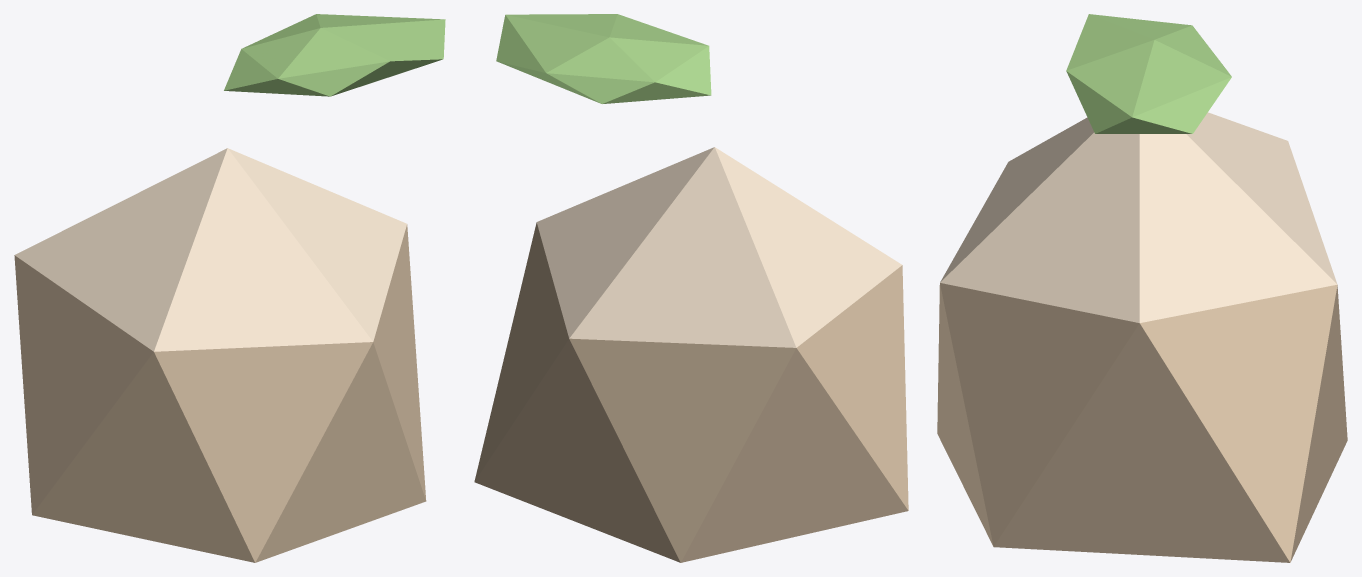
The model's file is PG_Rock_B.fbx.
3 renders of one model, left to right at view 1: azimuth 30°, elevation 25°; view 2: azimuth 150°, elevation 25°; view 3: azimuth 270°, elevation 25°, orthographic. The views are drawn at different scales.
Visible parts, largest first — view 1: PG_Rock_B; view 2: PG_Rock_B; view 3: PG_Rock_B.
Part boxes in pixels (bbox=[...]): PG_Rock_B: bbox=[14, 14, 445, 562]; PG_Rock_B: bbox=[474, 14, 908, 562]; PG_Rock_B: bbox=[937, 14, 1347, 562].
Bounding box in the file's own units: 0.5962 × 0.5972 × 0.455.
